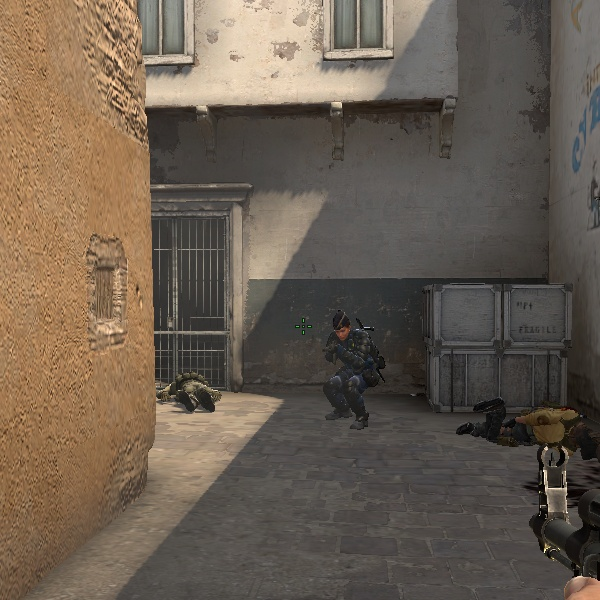ct_body: (318, 312, 382, 429)
ct_head: (332, 313, 353, 341)
